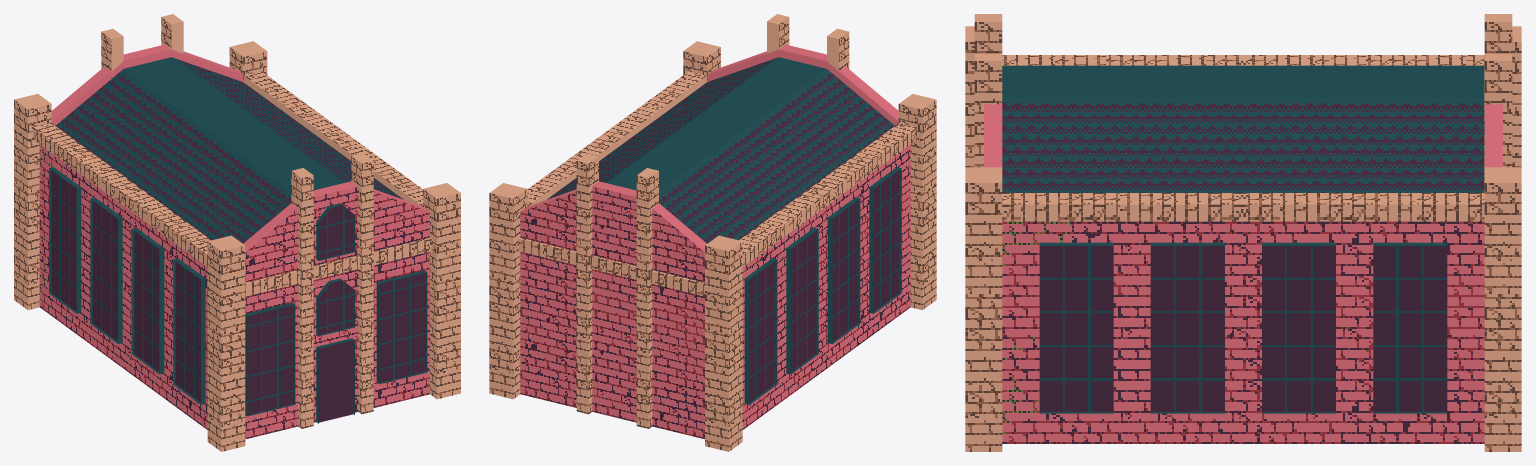
The model's file is manufacturing_works.glb.
The picture shows the model from 3 angles, left to right: view 1: azimuth 30°, elevation 25°; view 2: azimuth 150°, elevation 25°; view 3: azimuth 270°, elevation 25°; orthographic projection. The views are drawn at different scales.
Visible parts, largest first — view 1: manufacturing_works; view 2: manufacturing_works; view 3: manufacturing_works.
Boxes of the visible parts, x1,y1,x2,y2 form: manufacturing_works: (14,14,460,451); manufacturing_works: (489,14,936,451); manufacturing_works: (965,14,1521,451).
Size of the model in its own units: 10 by 10 by 15.
Materials: 1 (1 with a texture image).
